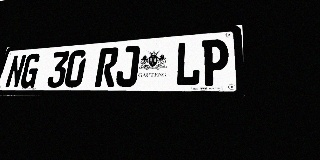0: (63, 49, 88, 88)
3: (46, 51, 70, 88)
G: (19, 53, 42, 88)
J: (115, 45, 140, 87)
L: (174, 40, 201, 86)
N: (4, 54, 27, 88)
P: (201, 38, 229, 86)
R: (94, 47, 120, 87)
